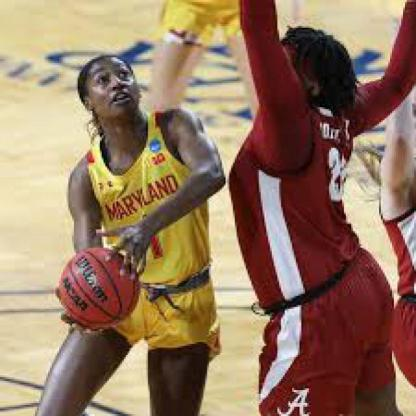basketball: (59, 248, 137, 329)
